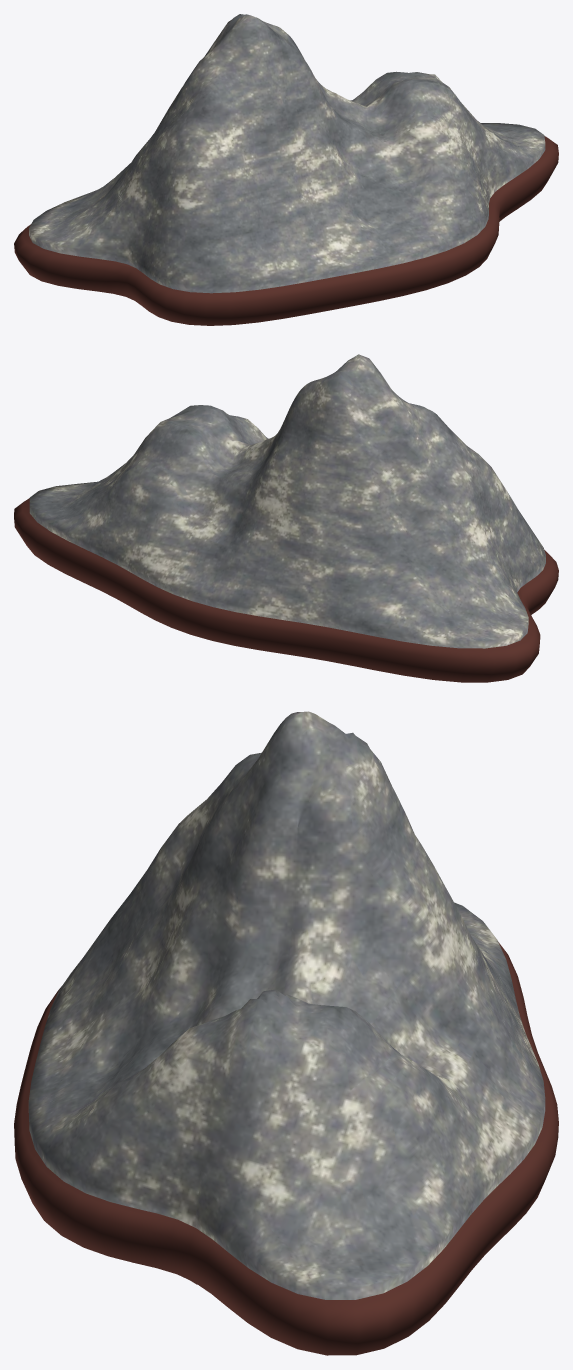
Rendered from suiseki-recreation-v51.glb.
The picture shows the model from 3 angles, top to bottom: view 1: azimuth 30°, elevation 25°; view 2: azimuth 150°, elevation 25°; view 3: azimuth 270°, elevation 25°; orthographic projection. The views are drawn at different scales.
Visible parts, largest first — view 1: Kamogawaishi-Recreation, MahoganyDai; view 2: Kamogawaishi-Recreation, MahoganyDai; view 3: Kamogawaishi-Recreation, MahoganyDai.
Boxes of the visible parts, bbox=[...] form: Kamogawaishi-Recreation: bbox=[29, 14, 545, 293]; MahoganyDai: bbox=[14, 136, 558, 325]; Kamogawaishi-Recreation: bbox=[29, 354, 545, 648]; MahoganyDai: bbox=[14, 498, 558, 682]; Kamogawaishi-Recreation: bbox=[28, 711, 545, 1299]; MahoganyDai: bbox=[14, 942, 558, 1355].
Size of the model in its own units: 0.472 by 0.2171 by 0.2595.
2 materials, 1 textured.
